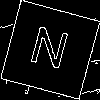N: (24, 25, 71, 79)
